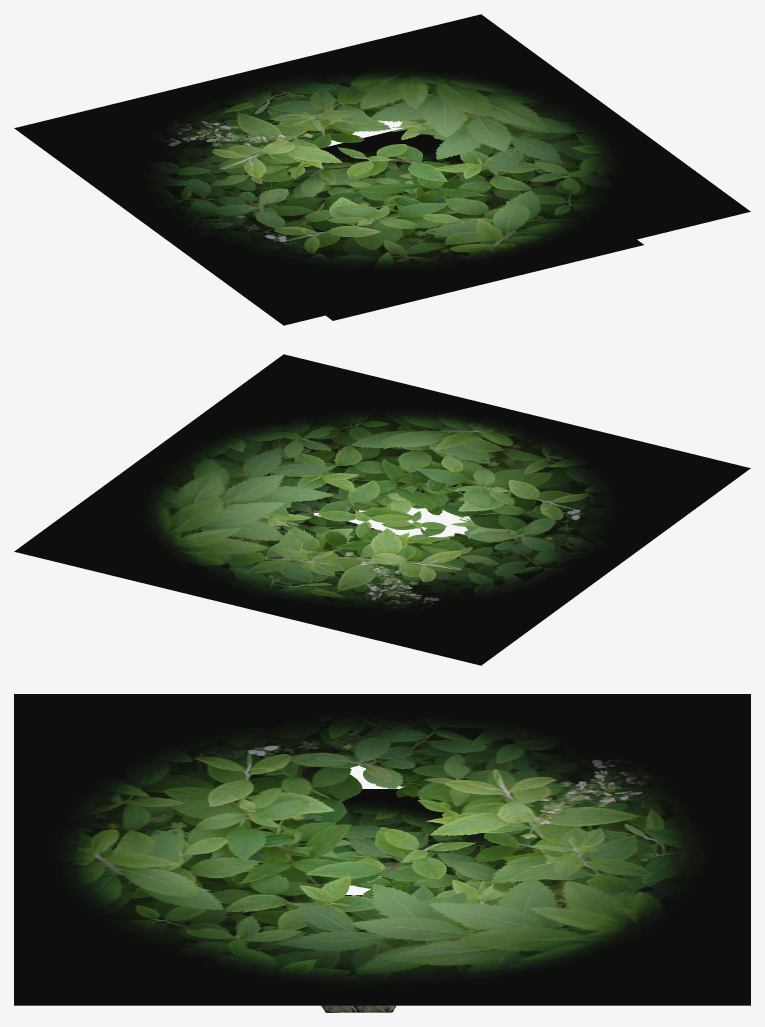
File: menu.obj
3 renders of one model, top to bottom at view 1: azimuth 30°, elevation 25°; view 2: azimuth 150°, elevation 25°; view 3: azimuth 270°, elevation 25°, orthographic. The views are drawn at different scales.
Visible parts, largest first — view 1: Mesh_0002; view 2: Mesh_0002; view 3: Mesh_0002.
Boxes of the visible parts, bbox=[...] form: Mesh_0002: bbox=[14, 14, 750, 325]; Mesh_0002: bbox=[14, 354, 750, 665]; Mesh_0002: bbox=[14, 694, 750, 1012].
Bounding box in the file's own units: 450 × 83.33 × 450.
5 materials, 5 textured.
